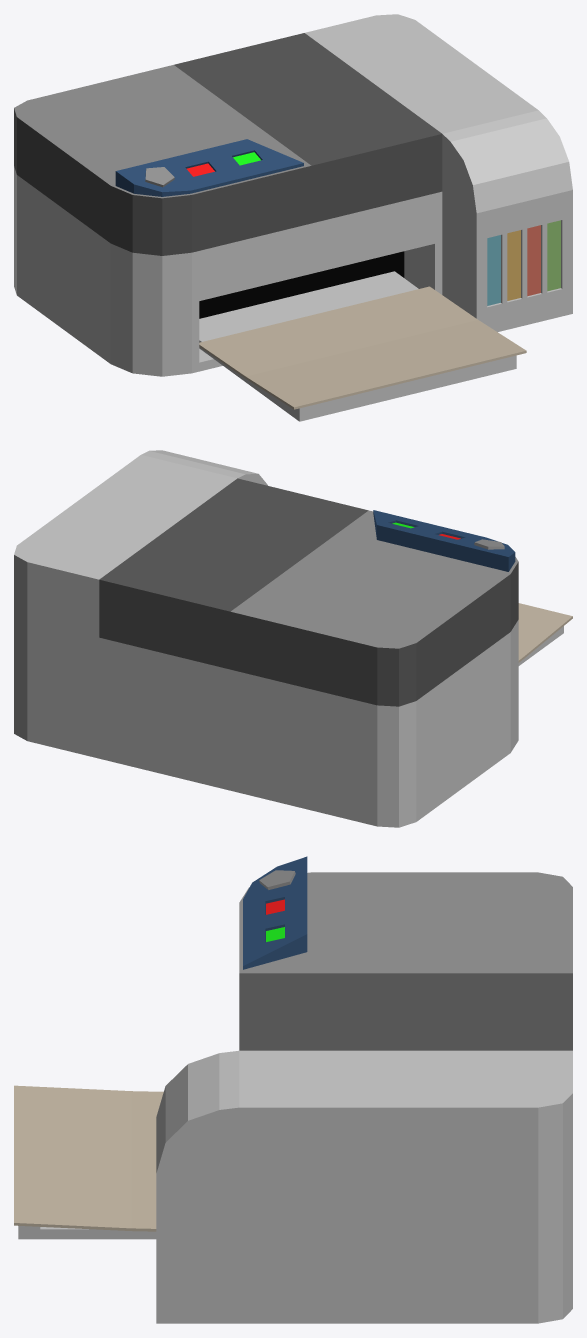
File: Int_TechPrinter01.fbx
The picture shows the model from 3 angles, top to bottom: view 1: azimuth 30°, elevation 25°; view 2: azimuth 150°, elevation 25°; view 3: azimuth 270°, elevation 25°; orthographic projection. The views are drawn at different scales.
Visible parts, largest first — view 1: Int_TechPrinter01; view 2: Int_TechPrinter01; view 3: Int_TechPrinter01.
Boxes of the visible parts, x1,y1,x2,y2 form: Int_TechPrinter01: [14, 14, 572, 421]; Int_TechPrinter01: [14, 450, 572, 827]; Int_TechPrinter01: [14, 856, 572, 1323].
Size of what is drawn, in the model's own units: 50.02 by 50.24 by 23.25.
